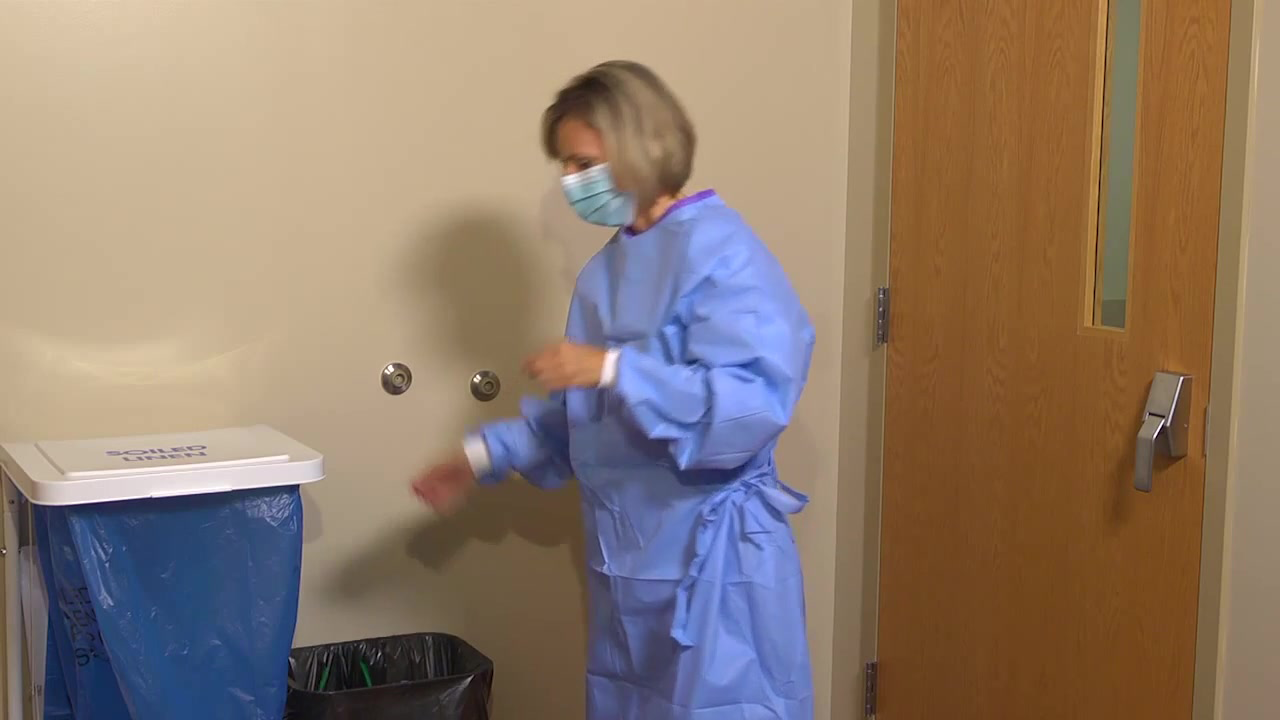Coverall: (548, 216, 821, 720)
with_mask: (552, 170, 653, 246)
